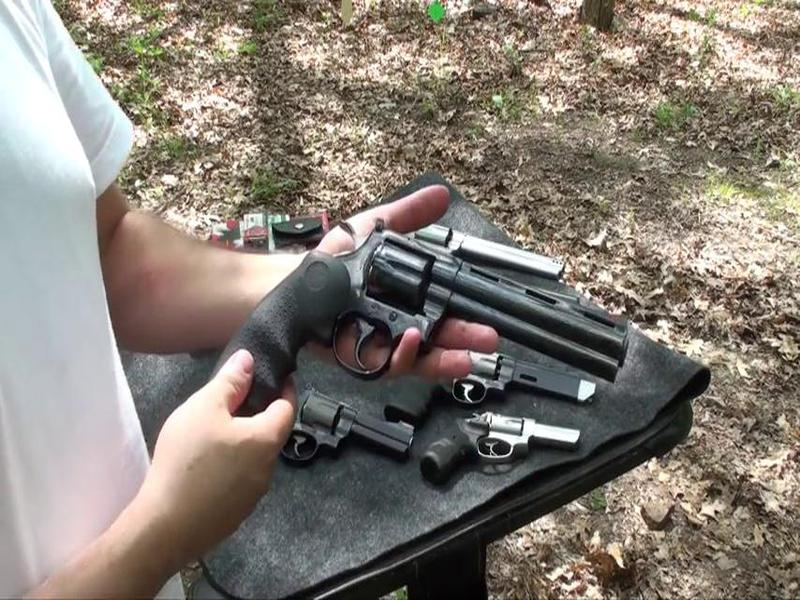Revolver: (207, 204, 653, 439)
